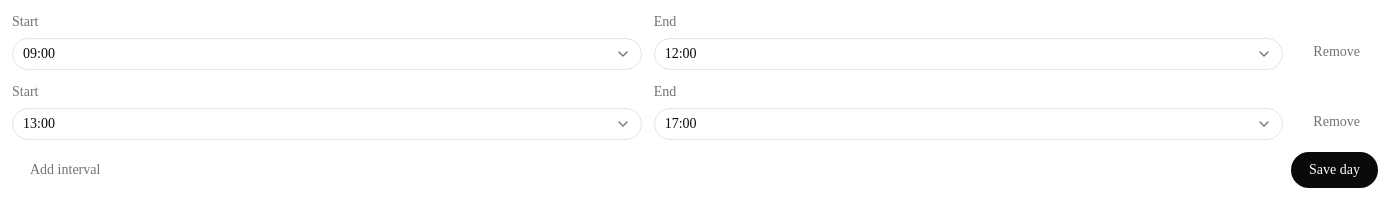
AMA settings UI contract › removes one local interval without deleting the remaining weekday hours
Click the 2nd button "Remove".
click(1337, 122)  # box x1=1295 y1=104 x2=1378 y2=140
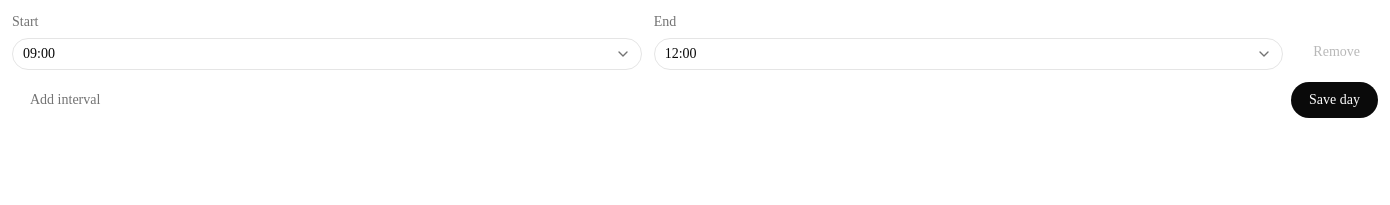
Result: the button "Remove" is disabled at x1=1295 y1=34 x2=1378 y2=70
